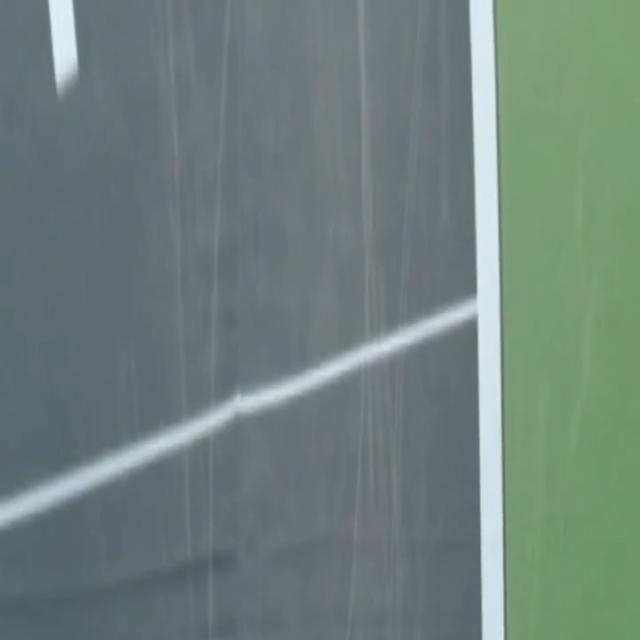center: (48, 0, 77, 98)
right: (469, 0, 504, 639)
